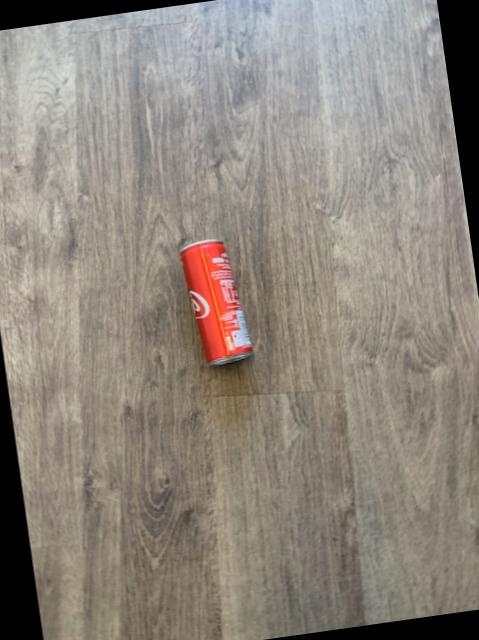metal: (179, 241, 250, 367)
